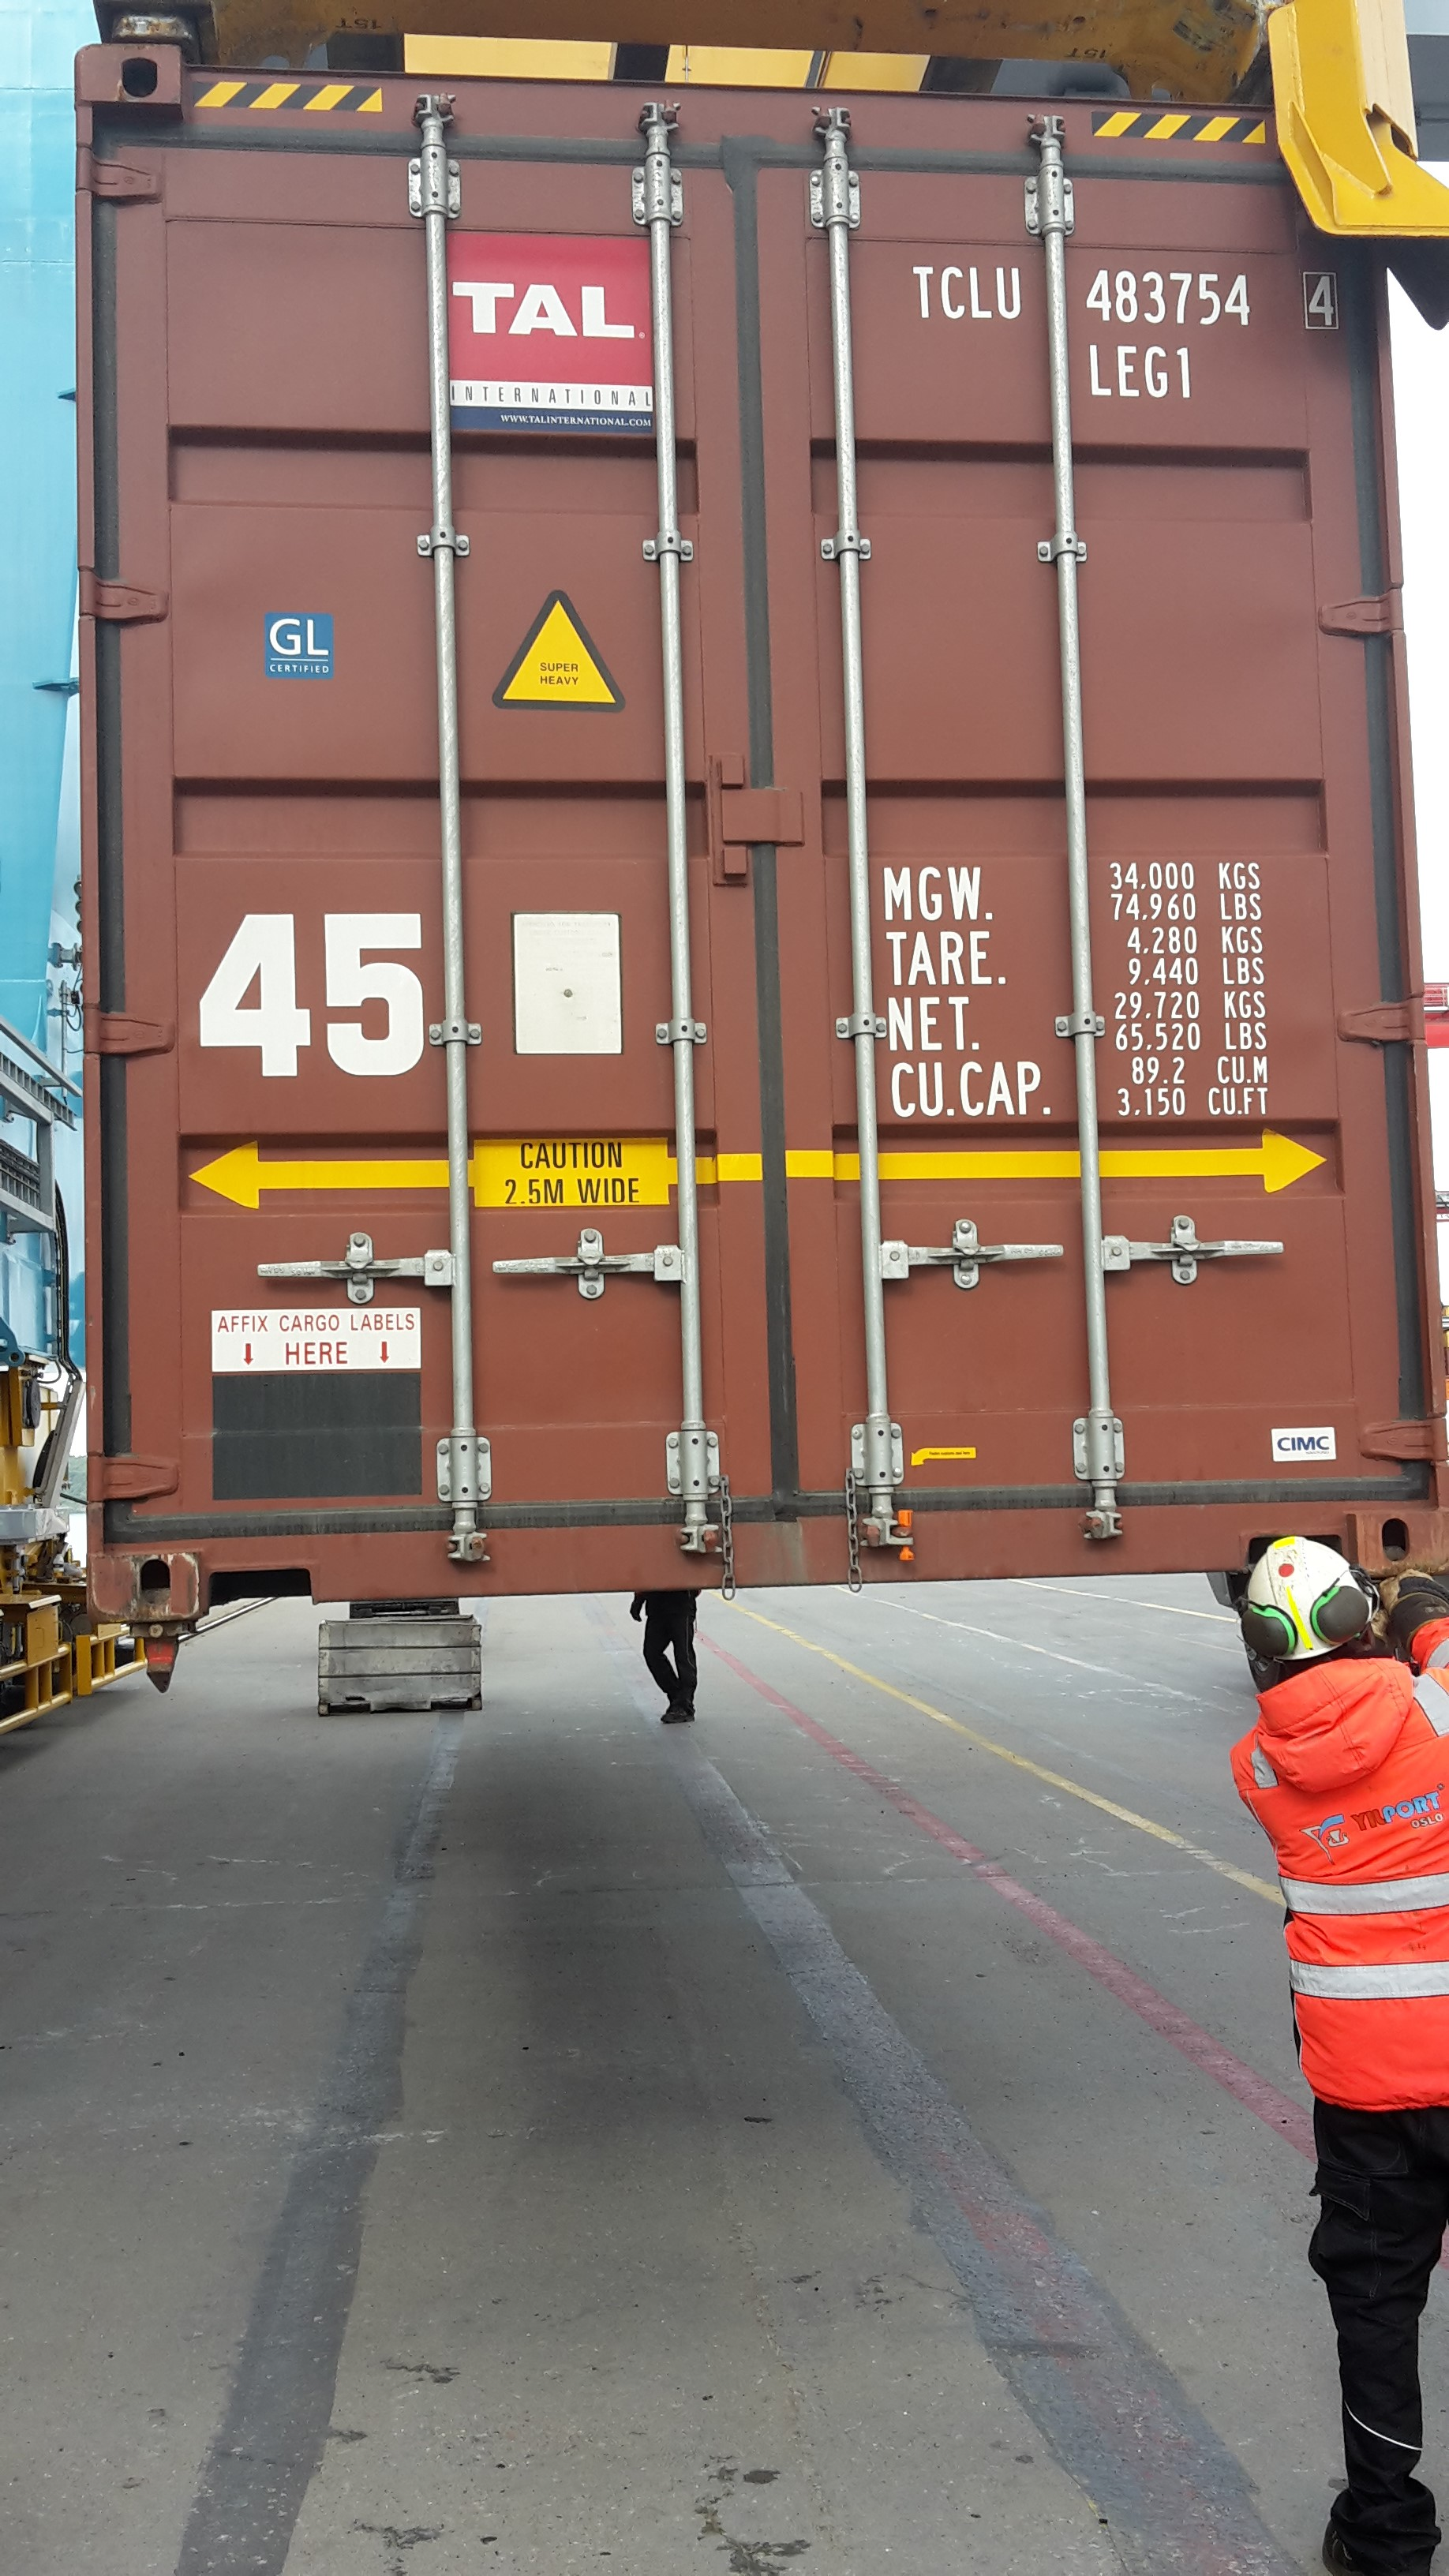container_door: (88, 42, 1422, 1621)
twist_lock_1: (96, 1598, 242, 1767)
